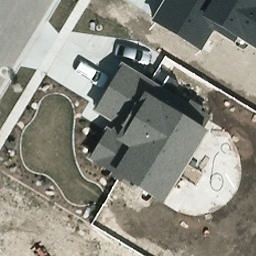car: (72, 56, 111, 89), (113, 43, 155, 70)
